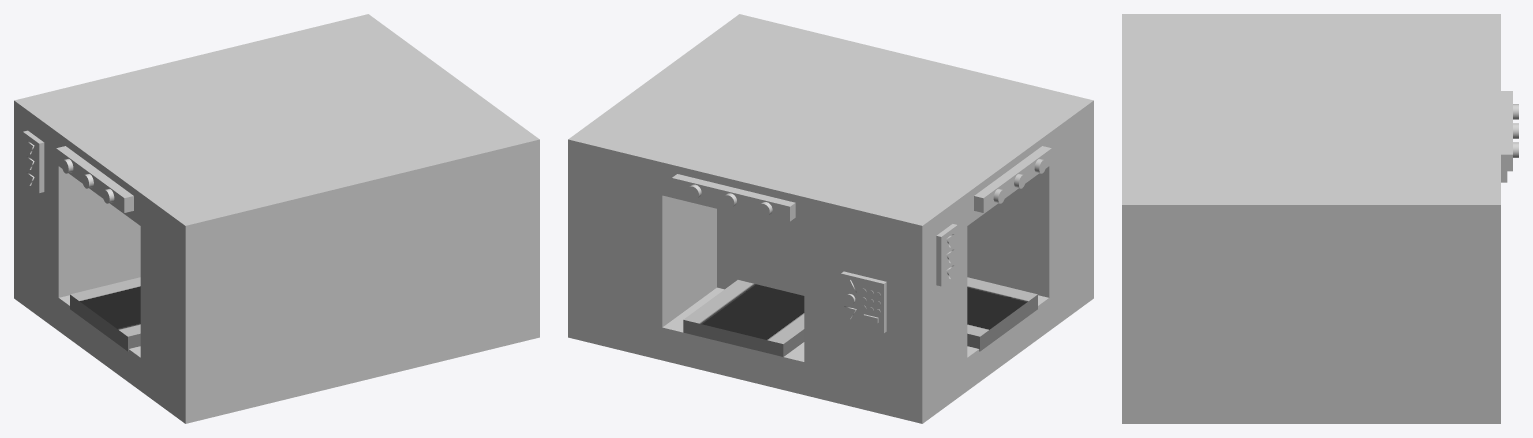
The model's file is AssembleMachine.FBX.
3 renders of one model, left to right at view 1: azimuth 30°, elevation 25°; view 2: azimuth 150°, elevation 25°; view 3: azimuth 270°, elevation 25°, orthographic. The views are drawn at different scales.
Parts seen in each view (by area): view 1: Box016, Box014, Box029, Box025; view 2: Box016, Box021, Box014, Box030, Box027, Box029, Box025; view 3: Box016, Box030.
Part boxes in pixels (bbox=[...]): Box016: bbox=[14, 14, 539, 423]; Box014: bbox=[70, 277, 140, 351]; Box029: bbox=[56, 146, 133, 212]; Box025: bbox=[23, 130, 44, 193]; Box016: bbox=[568, 14, 1093, 423]; Box021: bbox=[683, 280, 804, 356]; Box014: bbox=[967, 277, 1037, 351]; Box030: bbox=[672, 174, 795, 221]; Box027: bbox=[841, 271, 886, 333]; Box029: bbox=[974, 146, 1051, 212]; Box025: bbox=[936, 224, 957, 286]; Box016: bbox=[1122, 14, 1500, 423]; Box030: bbox=[1501, 91, 1512, 171].
Bounding box in the file's own units: 77.9 × 40 × 65.75.
5 materials, 1 textured.
